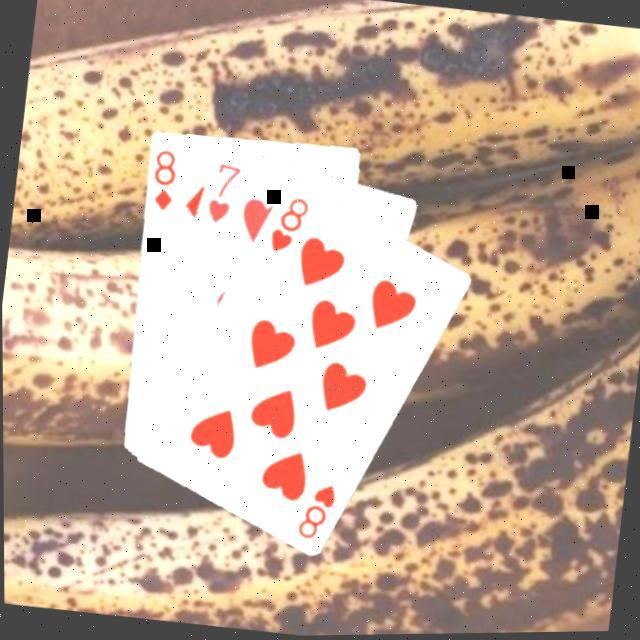7H: (202, 156, 245, 228)
8D: (147, 143, 183, 213)
8H: (266, 189, 315, 258), (293, 476, 341, 545)
